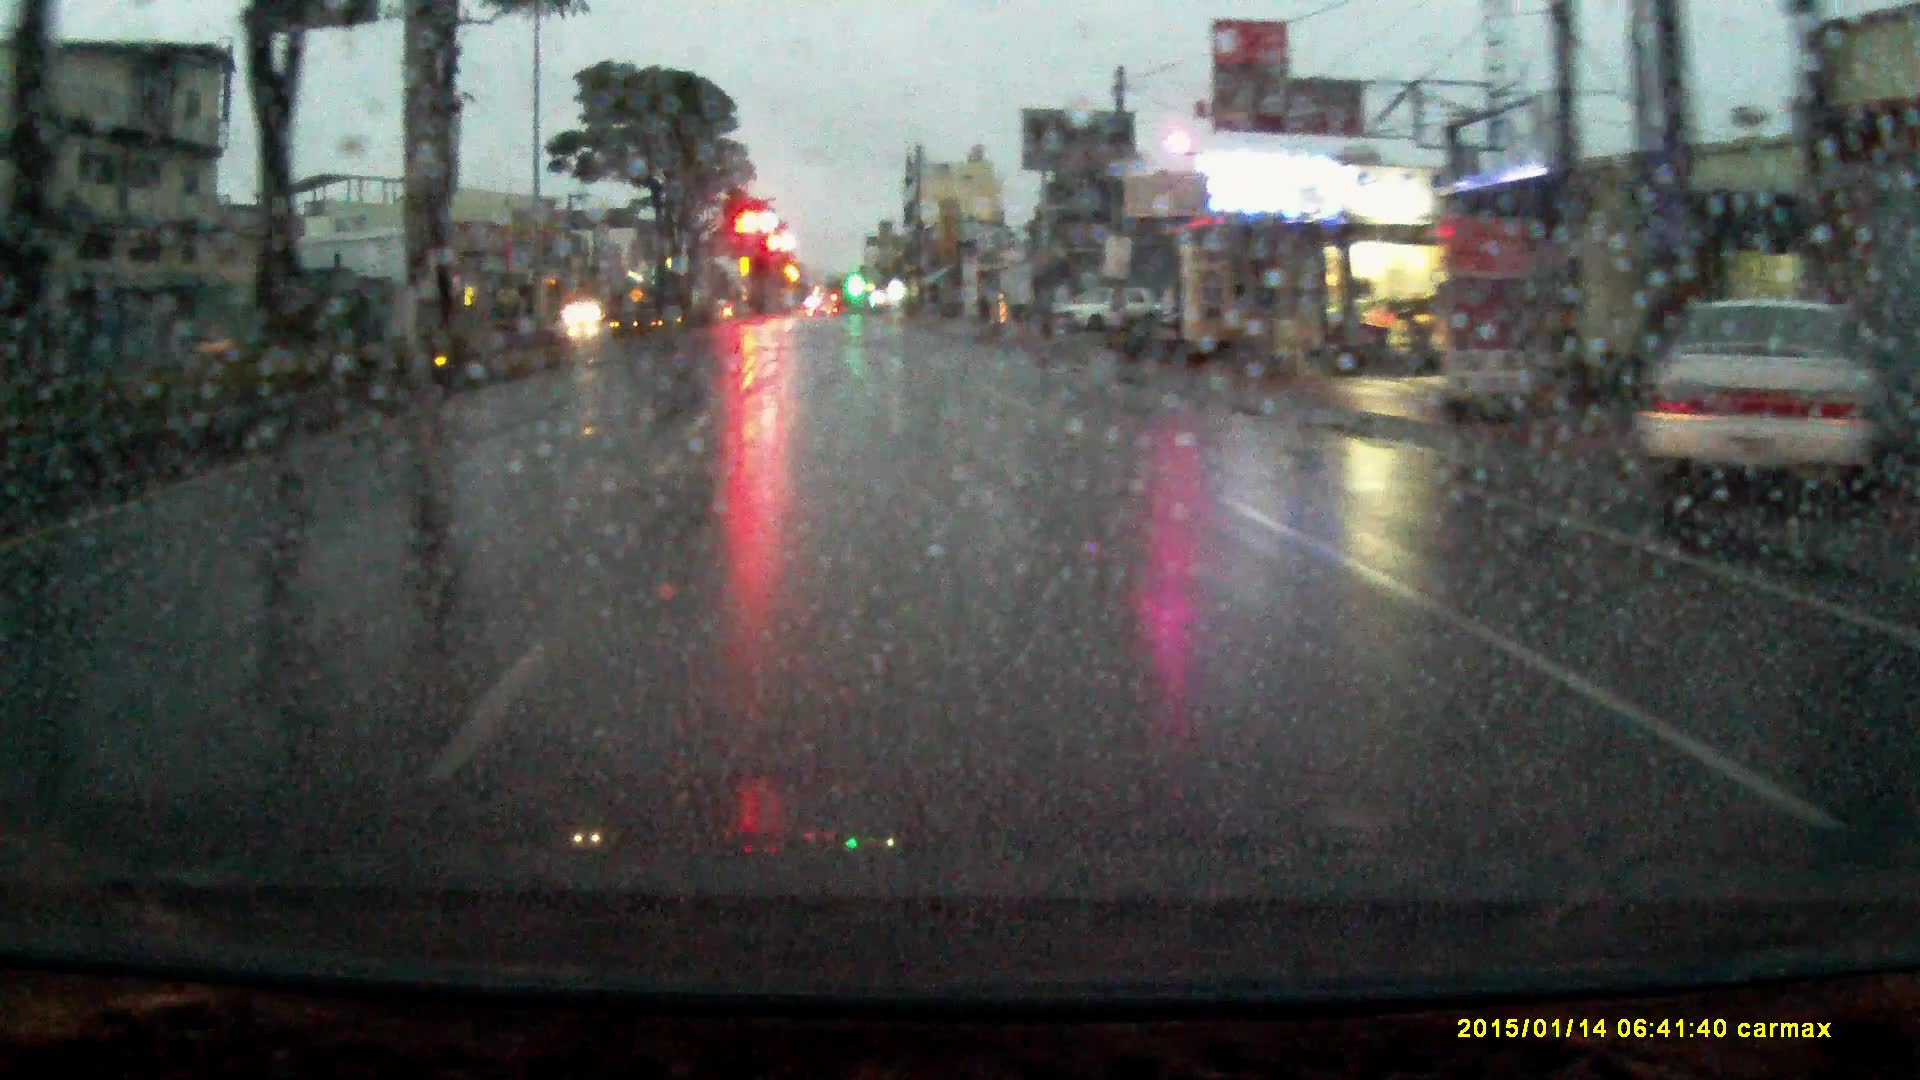vehicle: (1634, 294, 1888, 502), (1055, 284, 1160, 335), (564, 295, 612, 328)
